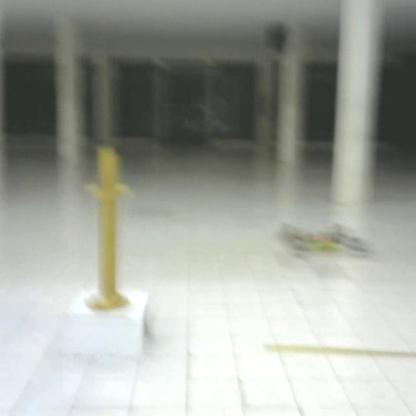pole: (83, 146, 138, 322)
